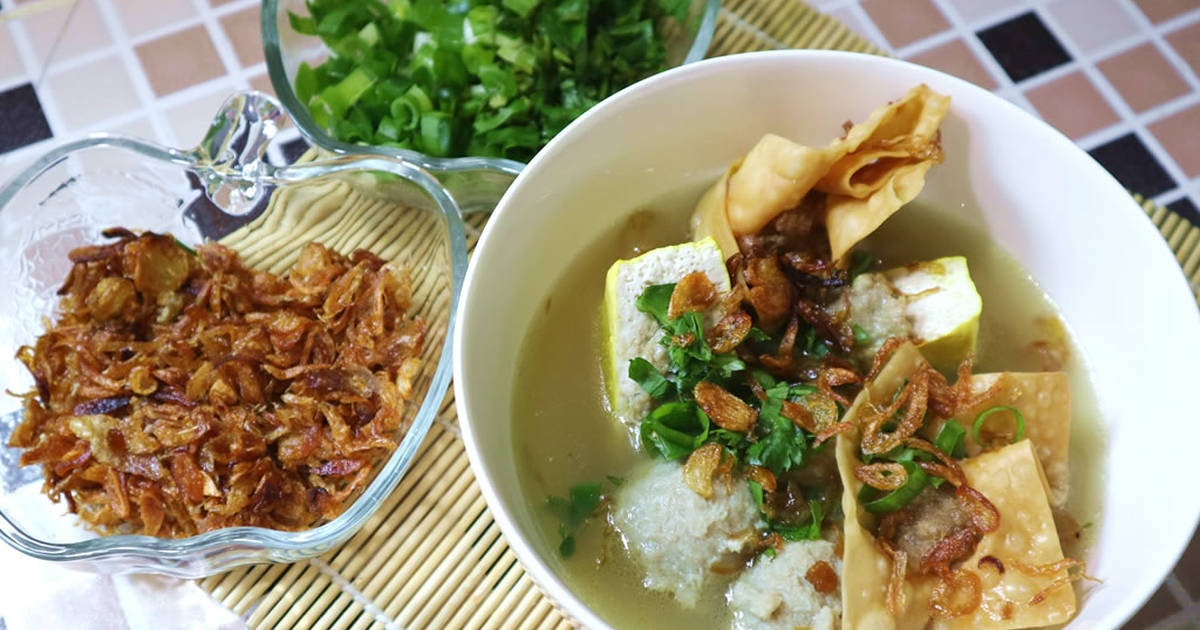bakso_malang: (602, 88, 1083, 630)
